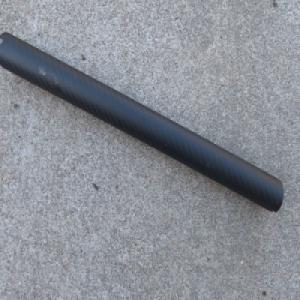LuggagePart: (0, 29, 283, 214)
